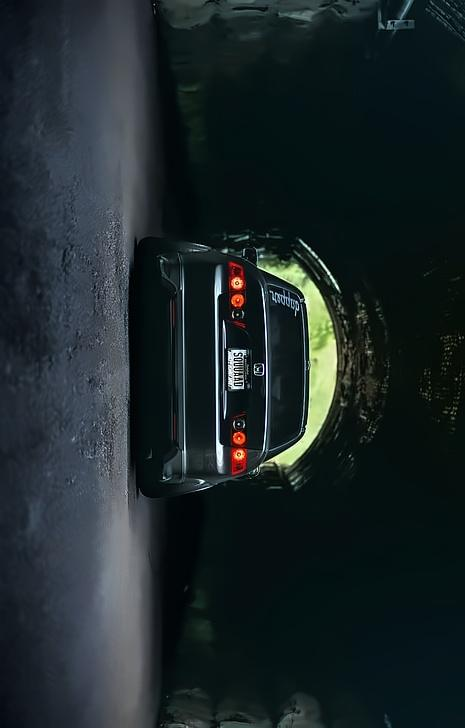Car boot: (196, 257, 277, 477)
Rear bumper: (148, 246, 216, 495)
Rear light - -L-: (213, 251, 254, 343)
Rear light - -R-: (219, 412, 259, 486)
